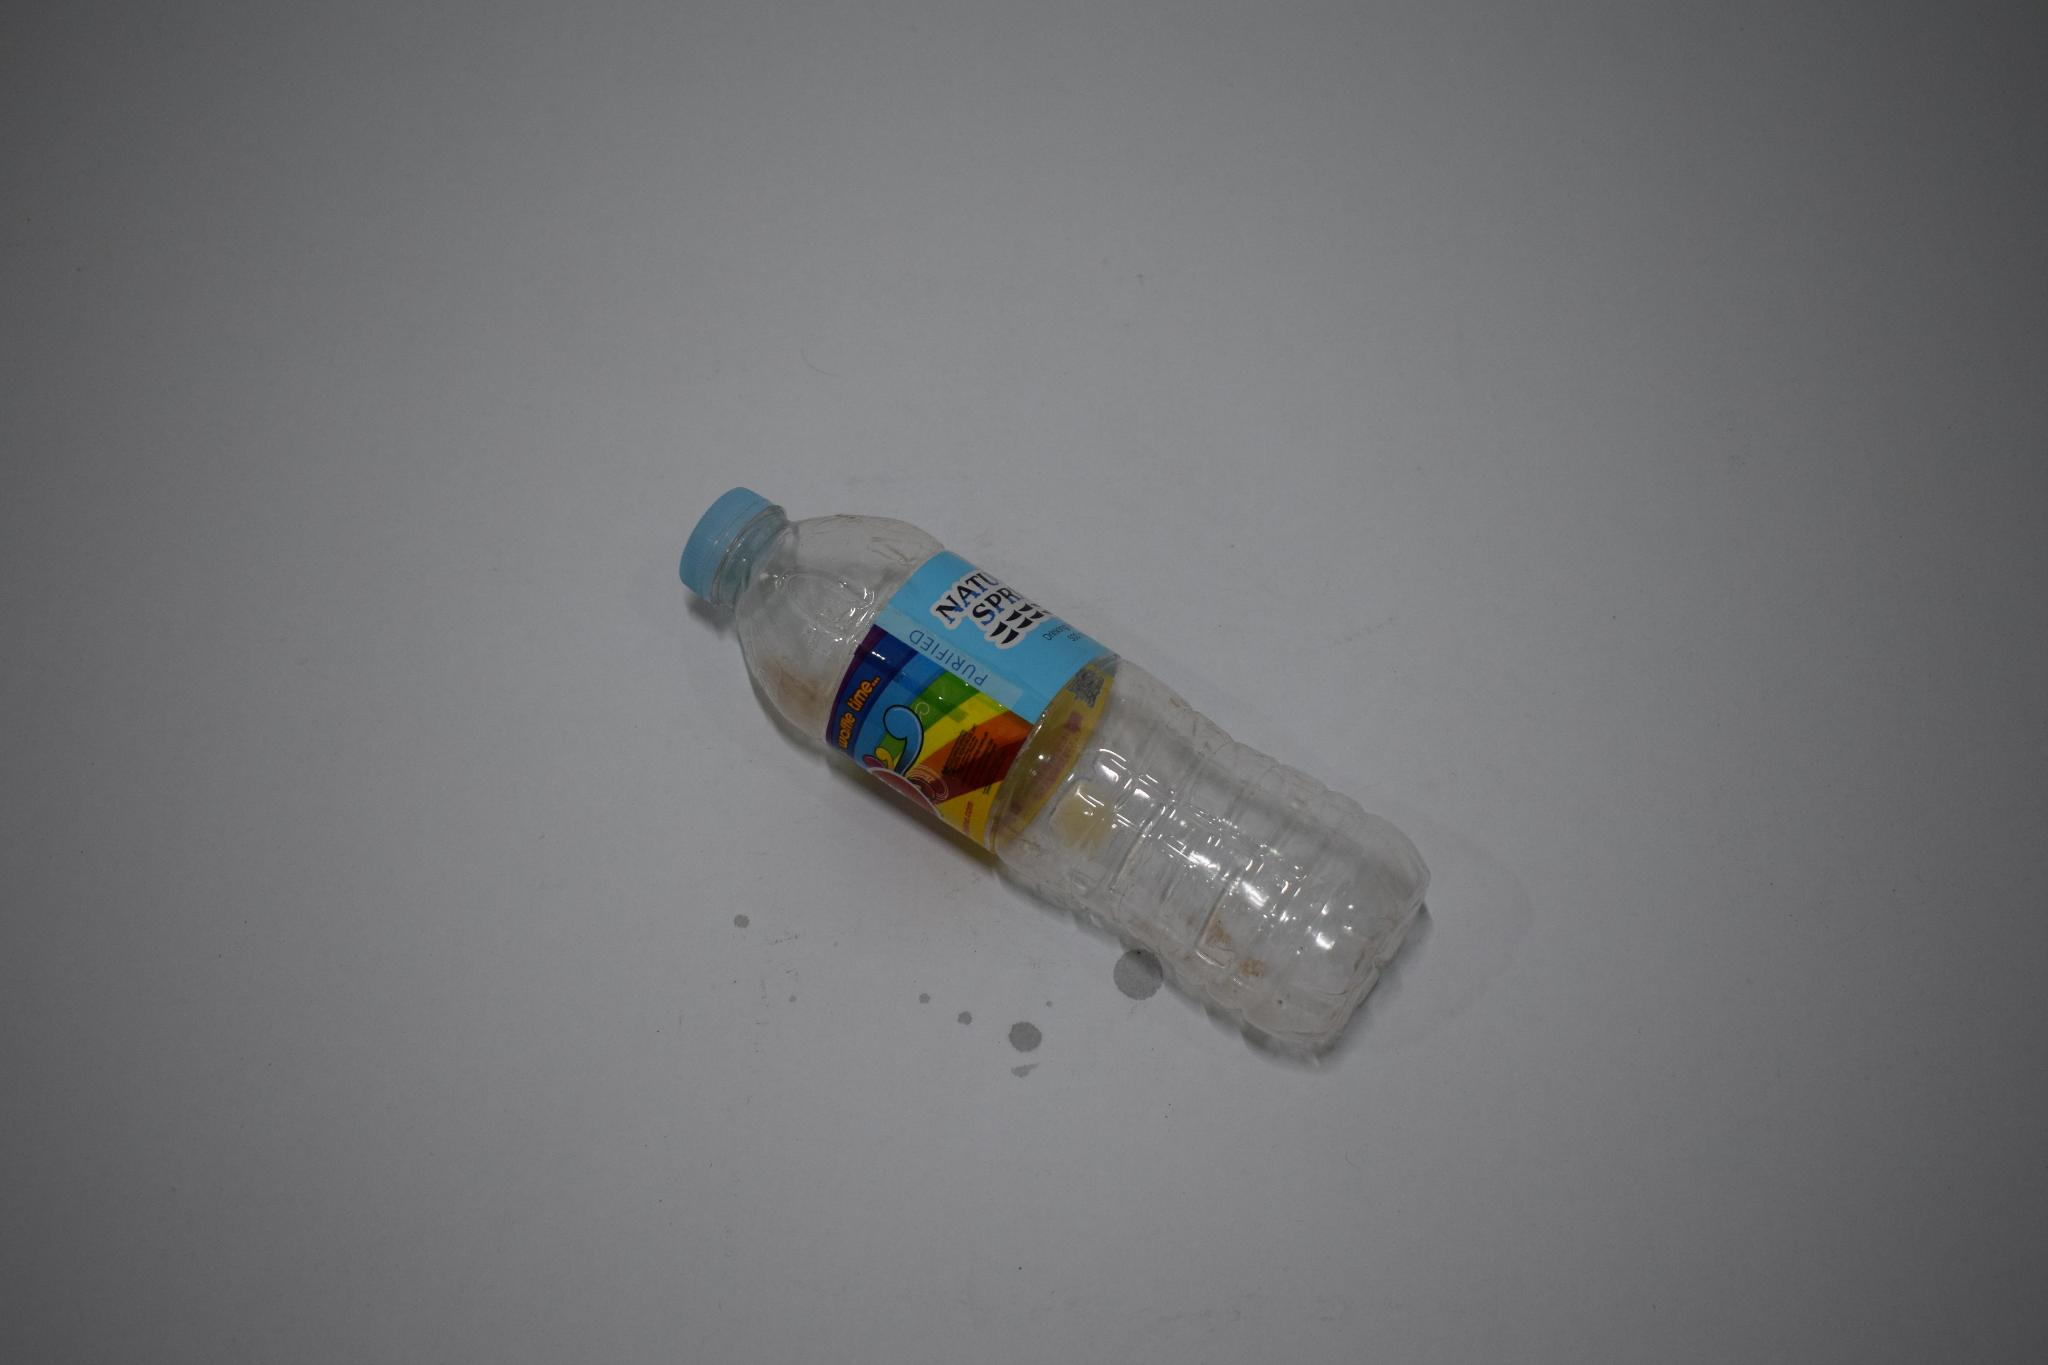bottle: (672, 450, 1448, 1084)
